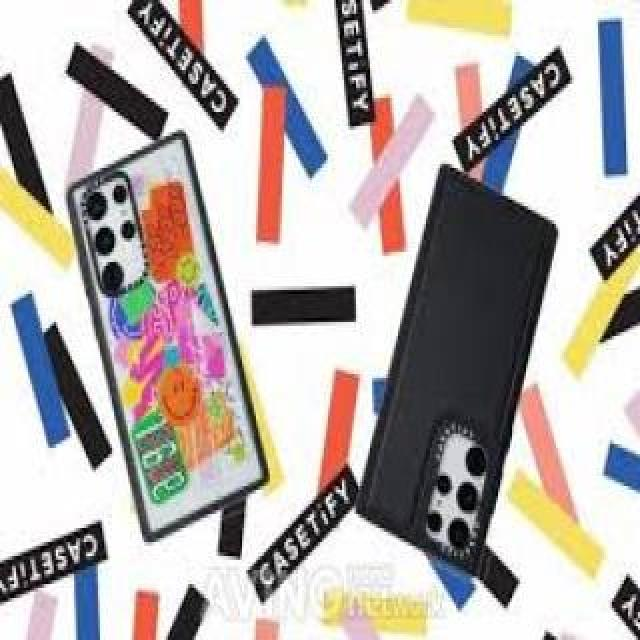smart phone: (45, 117, 303, 565), (370, 132, 550, 603)
